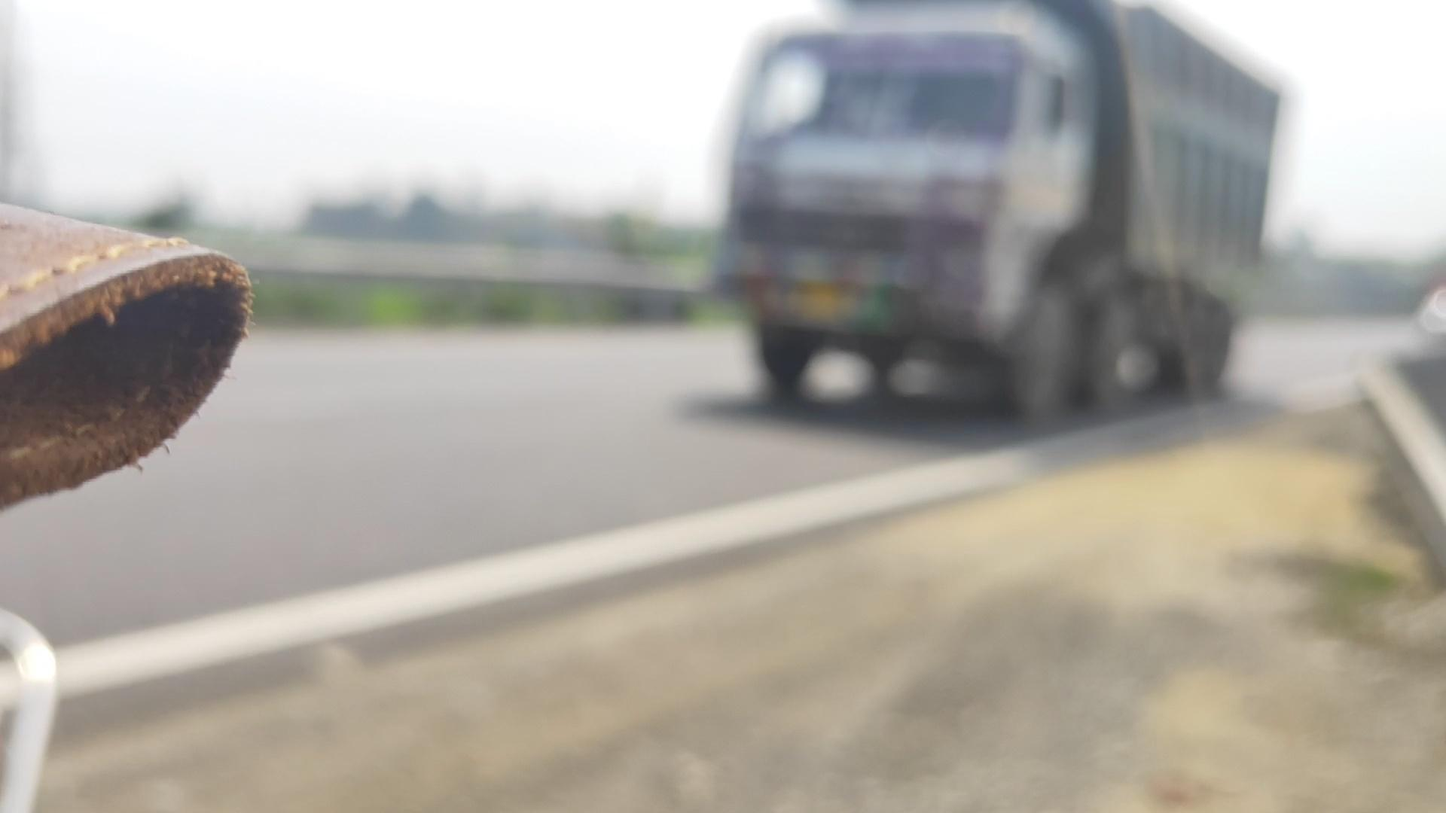truck: (725, 4, 1283, 428)
